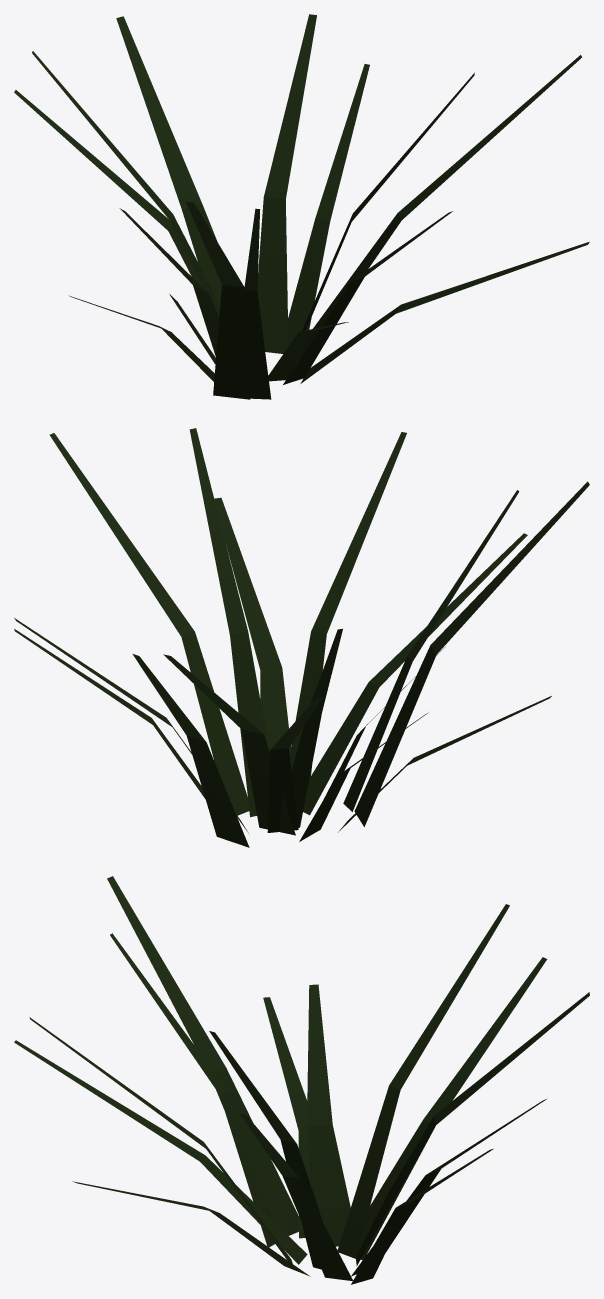
Rendered from shi-daze-wet-field-vegetation-v1-tuft-lod0.glb.
The picture shows the model from 3 angles, top to bottom: view 1: azimuth 30°, elevation 25°; view 2: azimuth 150°, elevation 25°; view 3: azimuth 270°, elevation 25°; orthographic projection. The views are drawn at different scales.
Parts seen in each view (by area): view 1: SM_SHI_LowBladeTuft_01_LOD0; view 2: SM_SHI_LowBladeTuft_01_LOD0; view 3: SM_SHI_LowBladeTuft_01_LOD0.
Boxes of the visible parts, <box> form: SM_SHI_LowBladeTuft_01_LOD0: <box>14,14,589,399</box>; SM_SHI_LowBladeTuft_01_LOD0: <box>14,428,589,847</box>; SM_SHI_LowBladeTuft_01_LOD0: <box>14,876,589,1284</box>.
Bounding box in the file's own units: 0.9 × 0.52 × 0.9.
